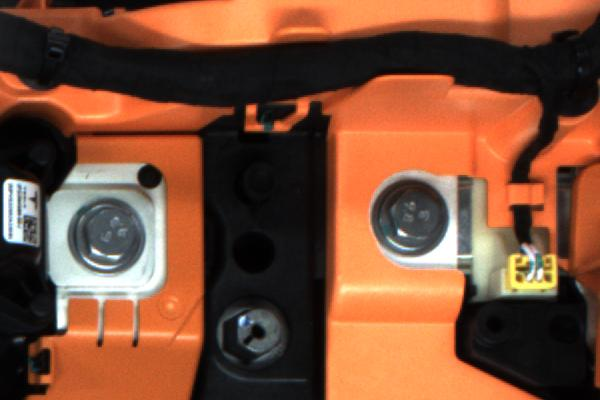nut_b: (361, 171, 458, 268), (58, 197, 150, 278)
